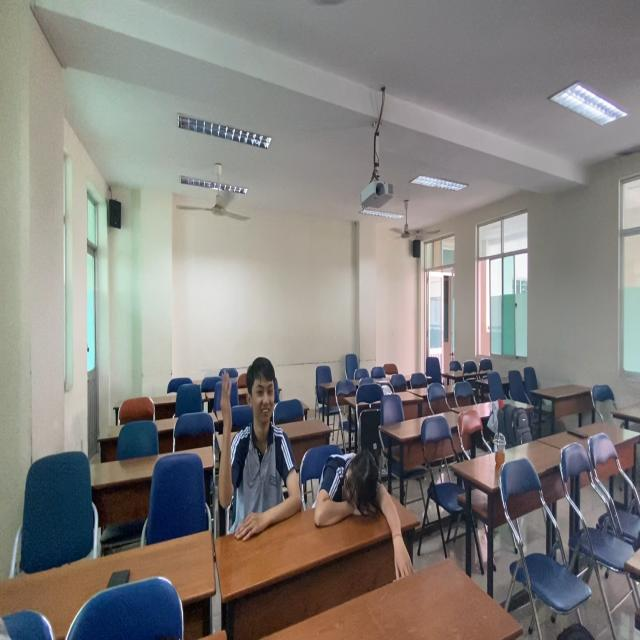raise_hand: (218, 353, 305, 549)
sleep: (319, 441, 414, 579)
